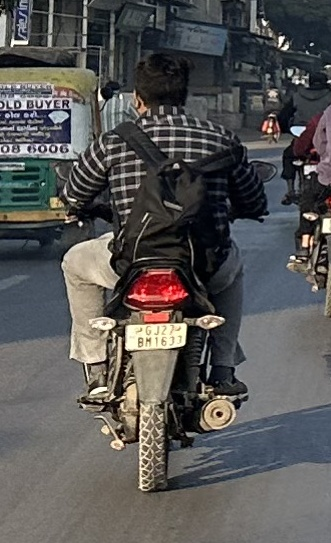BikeWithRider: (46, 42, 282, 499)
NoHelmet: (121, 44, 201, 120)
